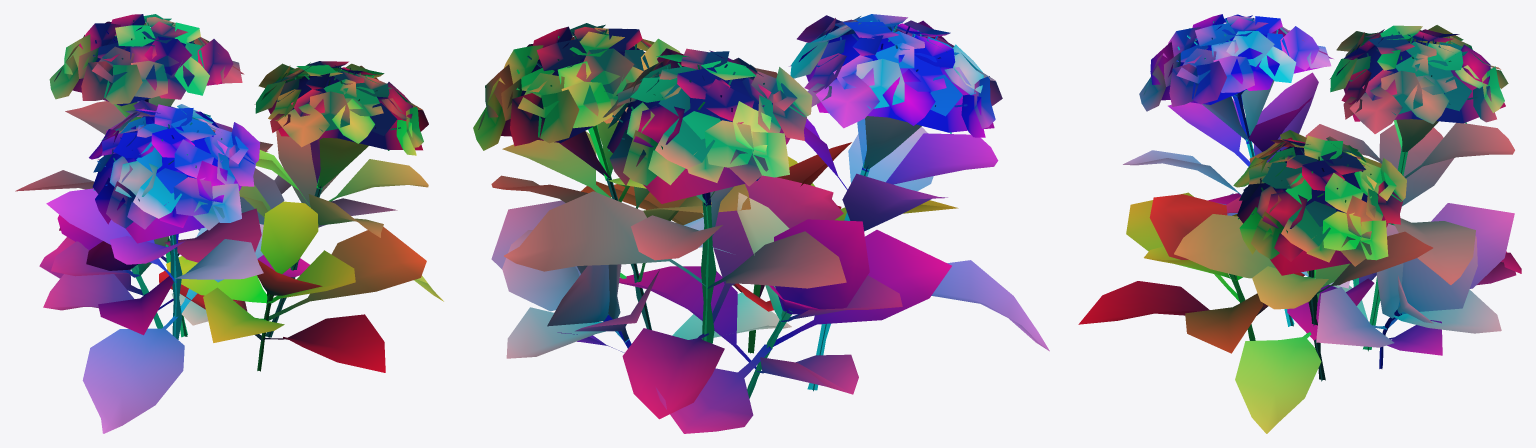
File: Bigleaf_Hydrangea_vgztealha_Mid_vgztealha_VarG_LOD1.fbx
3 views of the same model, side by side, from view 1: azimuth 30°, elevation 25°; view 2: azimuth 150°, elevation 25°; view 3: azimuth 270°, elevation 25° (orthographic). The views are drawn at different scales.
Visible parts, largest first — view 1: _6nem_VarG_LOD3; view 2: _6nem_VarG_LOD3; view 3: _6nem_VarG_LOD3.
Part boxes in pixels (<box>): _6nem_VarG_LOD3: <box>15,14,443,433</box>; _6nem_VarG_LOD3: <box>473,14,1049,433</box>; _6nem_VarG_LOD3: <box>1078,14,1521,433</box>.
Size of the model in its own units: 40.66 by 30.02 by 39.45.
